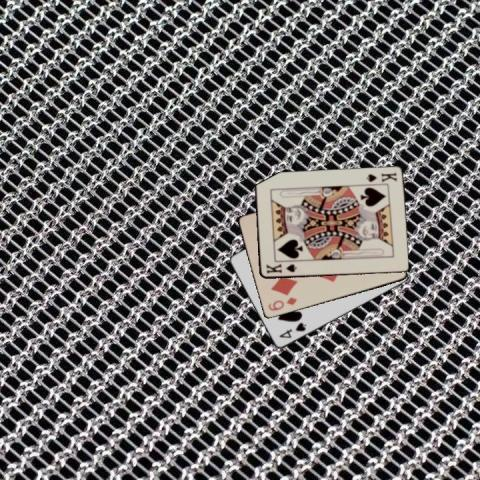4s: (276, 319, 308, 340)
6d: (265, 294, 298, 313)
Ks: (263, 261, 298, 275), (363, 170, 398, 183)
